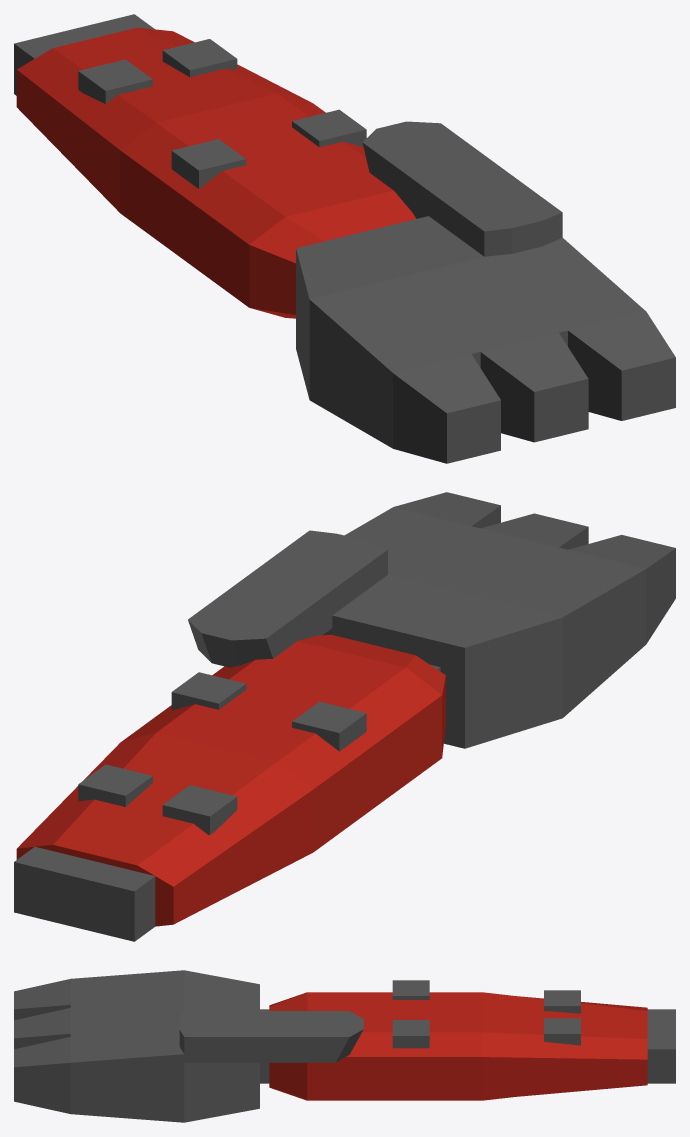
File: ship_stand_in.fbx
3 views of the same model, one above another, from view 1: azimuth 30°, elevation 25°; view 2: azimuth 150°, elevation 25°; view 3: azimuth 270°, elevation 25° (orthographic). The views are drawn at different scales.
Visible parts, largest first — view 1: ship_joined; view 2: ship_joined; view 3: ship_joined.
Boxes of the visible parts, x1,y1,x2,y2 form: ship_joined: (14, 14, 675, 463); ship_joined: (14, 492, 675, 941); ship_joined: (14, 970, 675, 1122).
Size of the model in its own units: 265 by 882 by 126.
